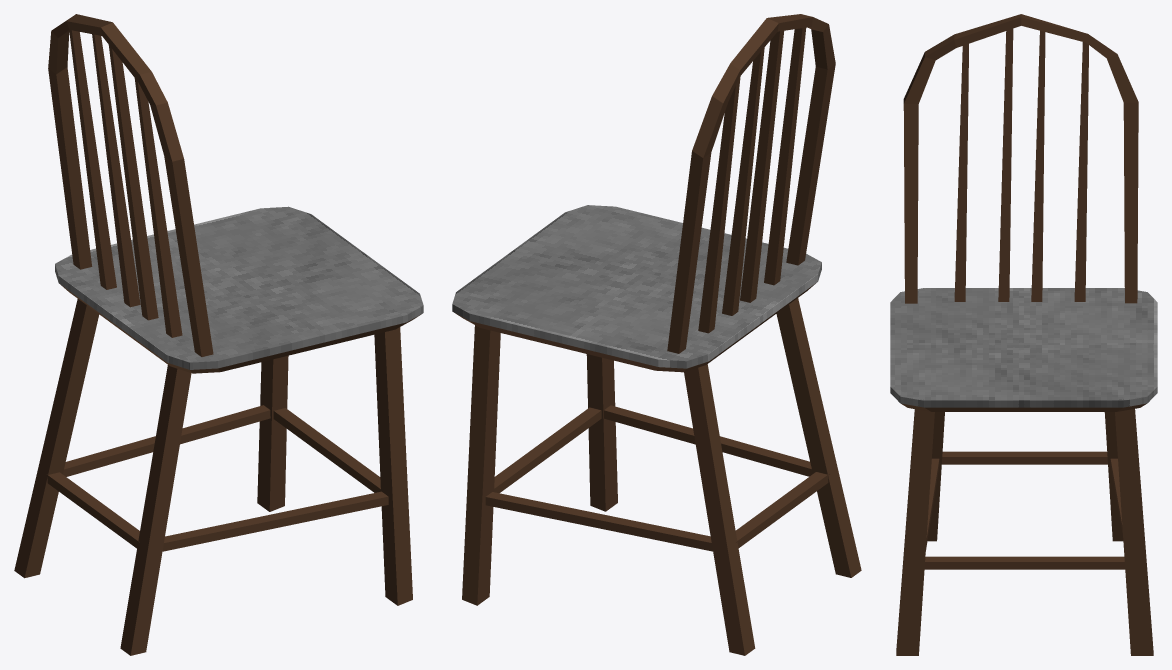
File: WesternChair.glb
3 renders of one model, left to right at view 1: azimuth 30°, elevation 25°; view 2: azimuth 150°, elevation 25°; view 3: azimuth 270°, elevation 25°, orthographic. The views are drawn at different scales.
Parts seen in each view (by area): view 1: WesternChair2; view 2: WesternChair2; view 3: WesternChair2.
Part boxes in pixels (bbox=[...]): WesternChair2: bbox=[14, 14, 423, 655]; WesternChair2: bbox=[452, 14, 861, 655]; WesternChair2: bbox=[890, 14, 1157, 655].
Bounding box in the file's own units: 0.9656 × 1.85 × 0.8333.
Materials: 2 (2 with a texture image).
